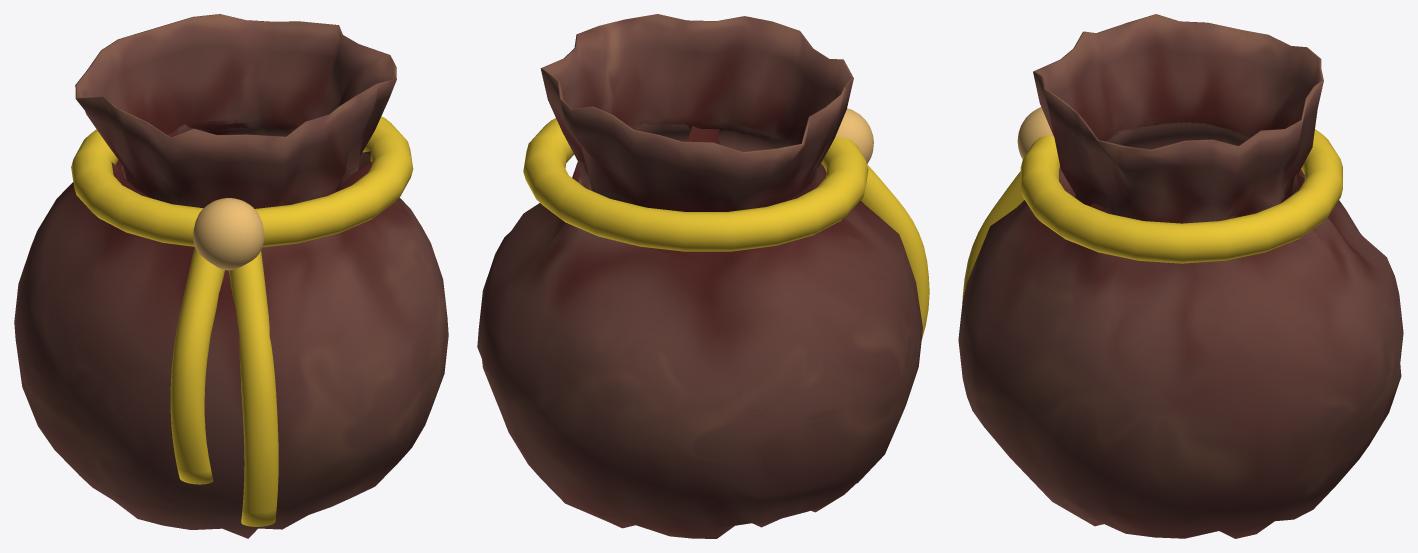
The model's file is QuacksBag.fbx.
3 renders of one model, left to right at view 1: azimuth 30°, elevation 25°; view 2: azimuth 150°, elevation 25°; view 3: azimuth 270°, elevation 25°, orthographic.
Parts seen in each view (by area): view 1: Sphere, Torus, Sphere.001; view 2: Sphere, Torus, Sphere.001; view 3: Sphere, Torus, Sphere.001.
Boxes of the visible parts, x1,y1,x2,y2 form: Sphere: (14, 14, 448, 538); Torus: (71, 116, 413, 526); Sphere.001: (193, 198, 264, 270); Sphere: (477, 14, 922, 538); Torus: (523, 118, 929, 339); Sphere.001: (835, 108, 873, 163); Sphere: (958, 14, 1403, 538); Torus: (962, 129, 1342, 301); Sphere.001: (1017, 107, 1053, 159).
Size of the model in its own units: 200 by 217 by 203.
3 materials, 1 textured.
